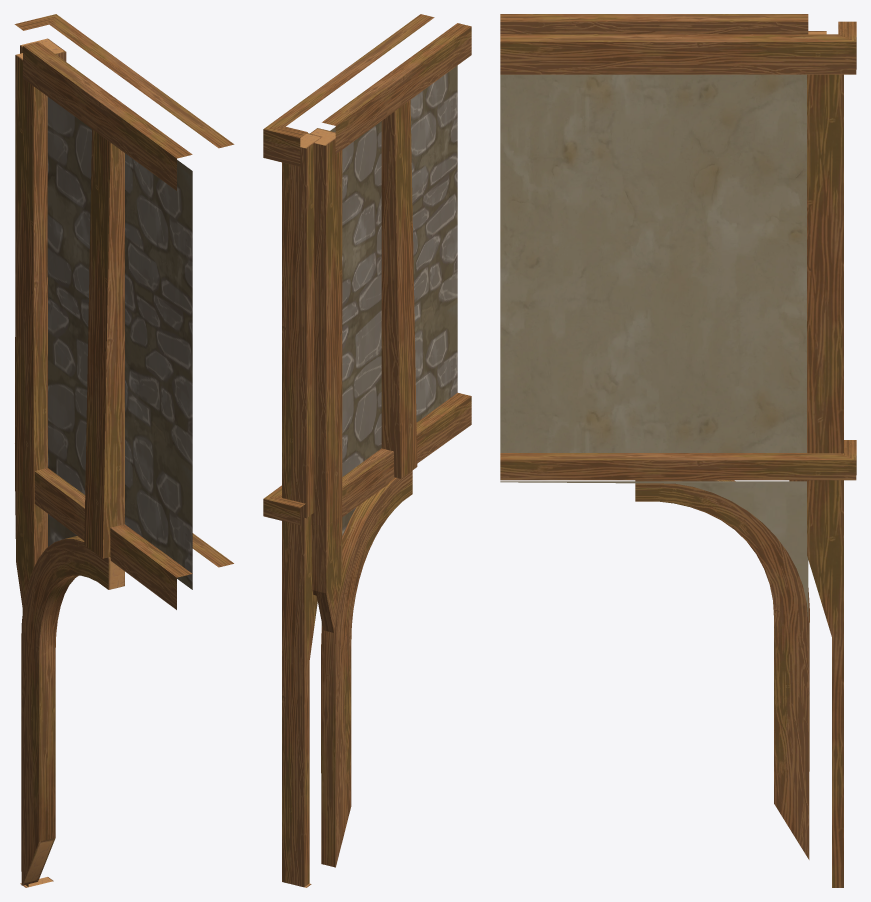
File: overhang-side-unevenbrick-long-l.glb
3 views of the same model, side by side, from view 1: azimuth 30°, elevation 25°; view 2: azimuth 150°, elevation 25°; view 3: azimuth 270°, elevation 25° (orthographic). The views are drawn at different scales.
Visible parts, largest first — view 1: Overhang_Side_UnevenBrick_Long_L; view 2: Overhang_Side_UnevenBrick_Long_L; view 3: Overhang_Side_UnevenBrick_Long_L.
Boxes of the visible parts, left/top/right/bottom form: Overhang_Side_UnevenBrick_Long_L: left=14, top=14, right=234, bottom=887; Overhang_Side_UnevenBrick_Long_L: left=263, top=14, right=471, bottom=887; Overhang_Side_UnevenBrick_Long_L: left=500, top=14, right=856, bottom=887.
Size of the model in its own units: 0.4793 by 6.12 by 2.31.
3 materials, 3 textured.
